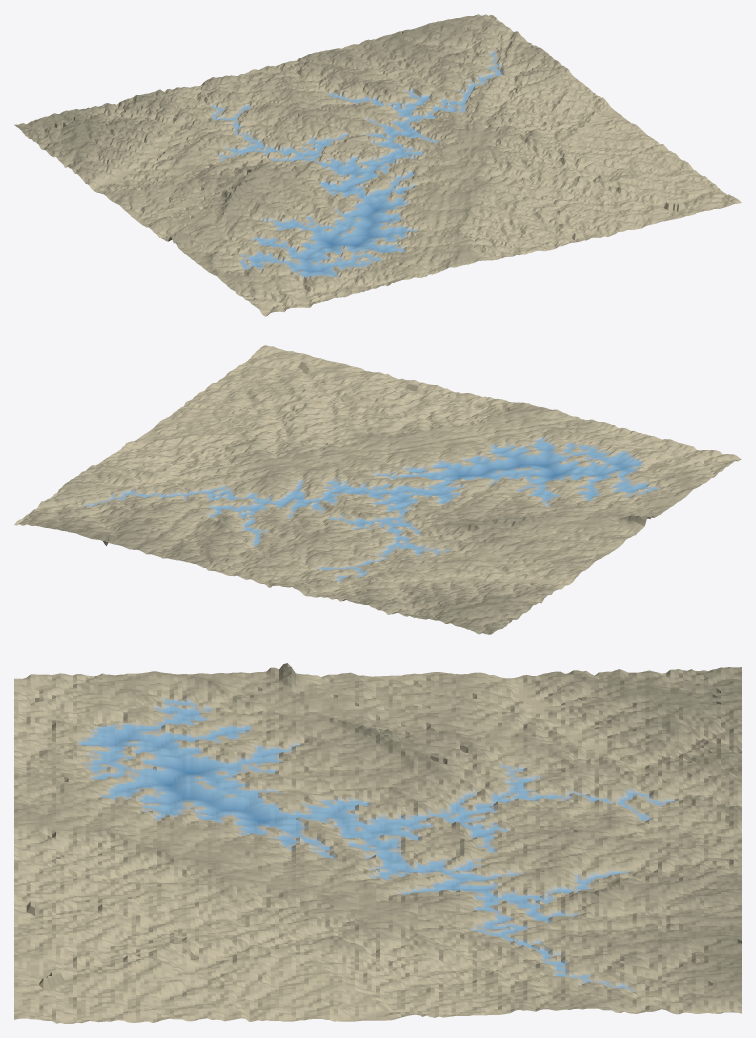
The model's file is lake_lanier_ga.glb.
The picture shows the model from 3 angles, top to bottom: view 1: azimuth 30°, elevation 25°; view 2: azimuth 150°, elevation 25°; view 3: azimuth 270°, elevation 25°; orthographic projection. The views are drawn at different scales.
Visible parts, largest first — view 1: terrain, water; view 2: terrain, water; view 3: terrain, water.
Part boxes in pixels (x1,y1,x2,y2): terrain: [14, 14, 741, 316]; water: [213, 55, 500, 276]; terrain: [14, 345, 741, 634]; water: [93, 439, 655, 580]; terrain: [14, 663, 741, 1023]; water: [81, 701, 669, 987].
Size of the model in its own units: 42098 by 1457 by 38401.
